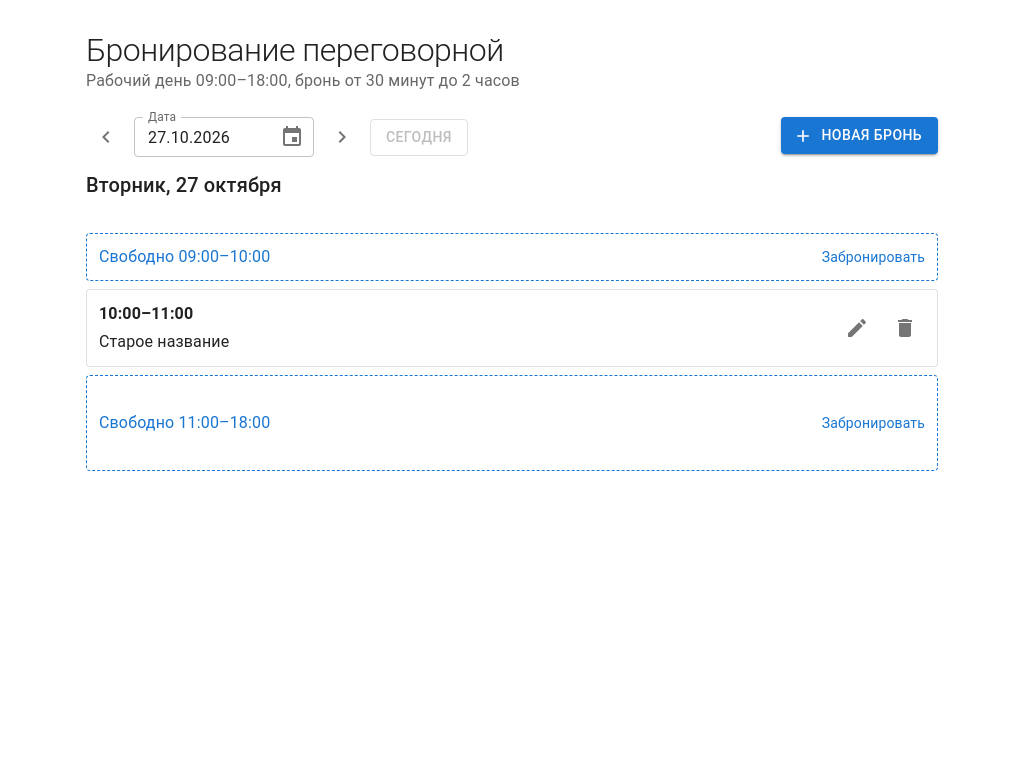
App integration › does not conflict with itself when editing
Click the button named "Изменить бронь 10:00–11:00": x=857, y=328 [837,308,877,348]
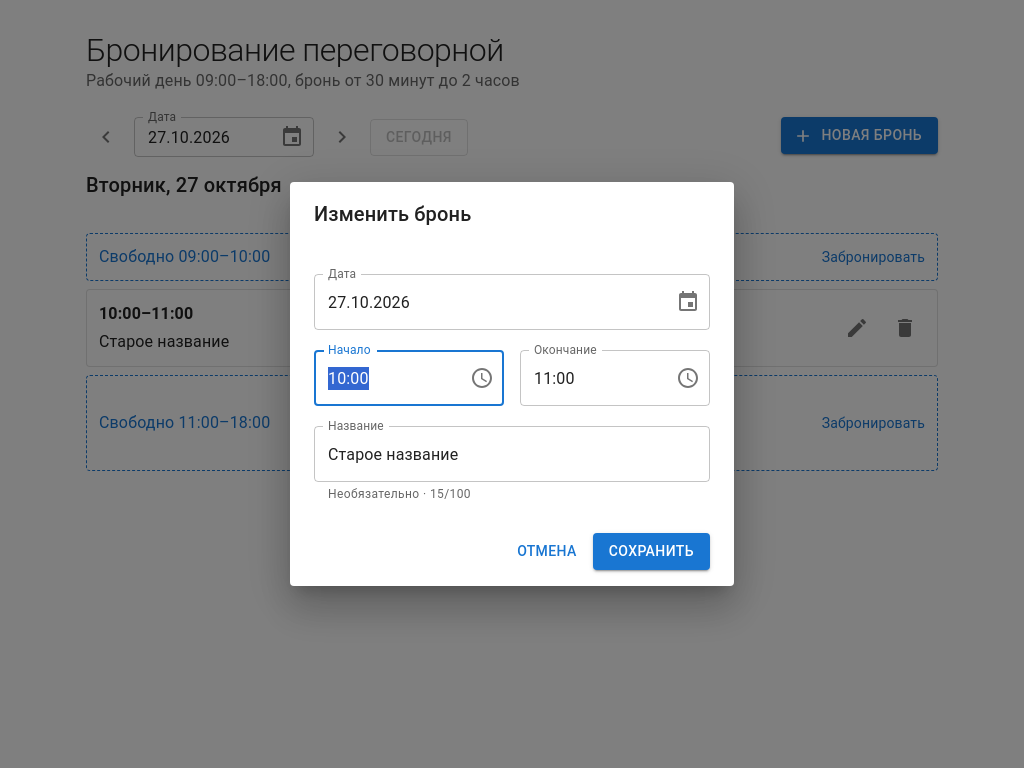
Replace the text in the field labelled "Название" with "Новое название": x=512, y=454 [314,426,710,482]
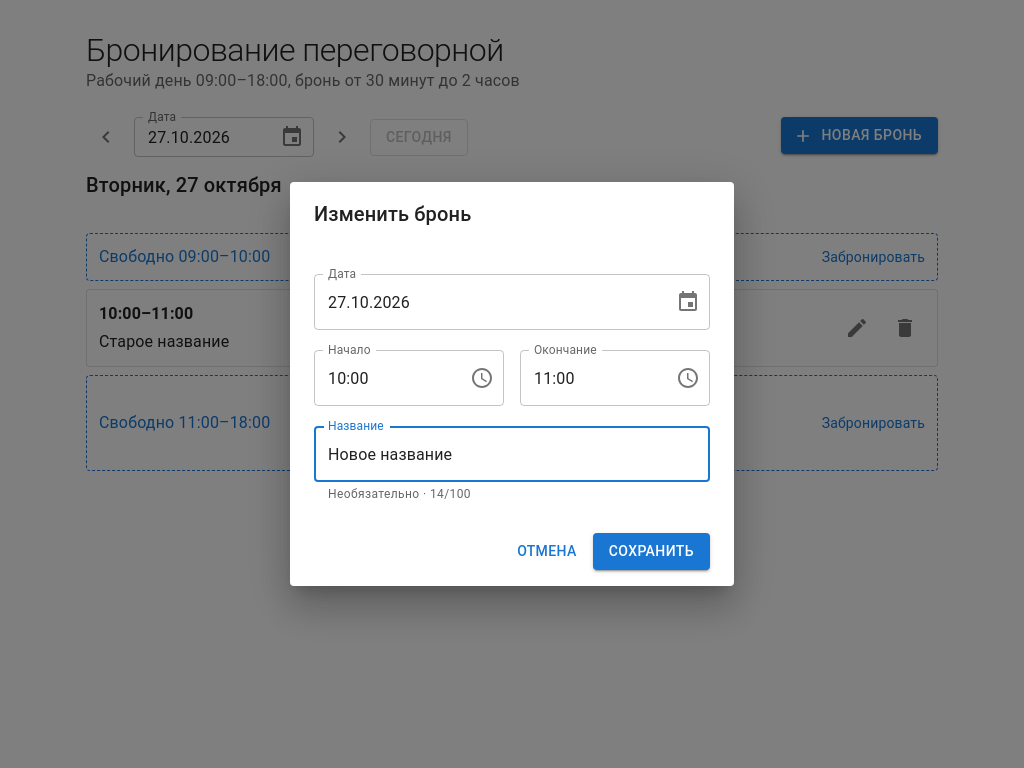
Click the button "Сохранить": x=651, y=551 [593,533,710,570]
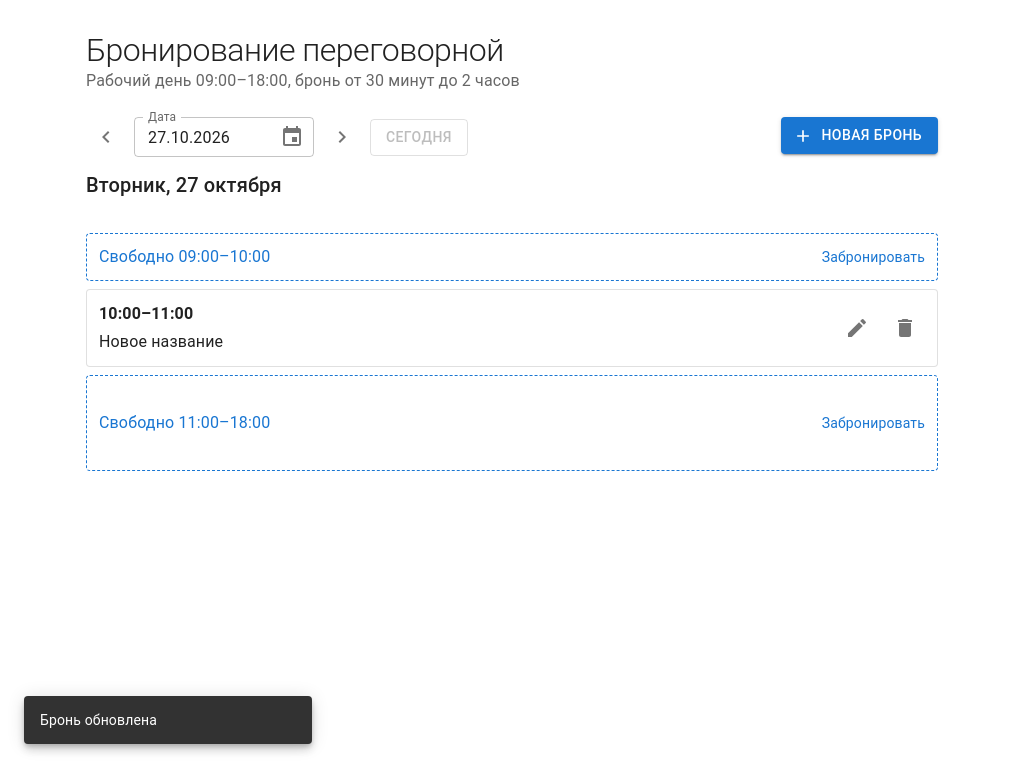
Expected: the text "Бронь обновлена" is shown, [40,712,157,728]
Expected: the text "Новое название" is shown, [99,332,223,351]
